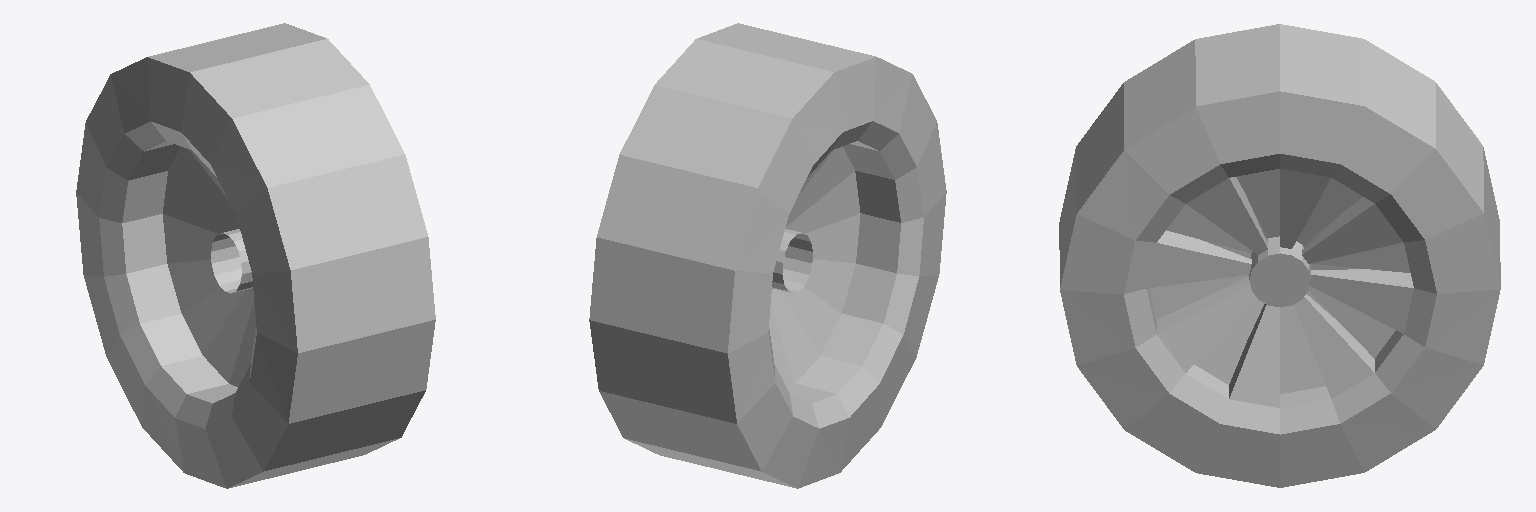
Rendered from ruotaPD.obj.
3 renders of one model, left to right at view 1: azimuth 30°, elevation 25°; view 2: azimuth 150°, elevation 25°; view 3: azimuth 270°, elevation 25°, orthographic.
Visible parts, largest first — view 1: Cube.002; view 2: Cube.002; view 3: Cube.002.
Boxes of the visible parts, x1,y1,x2,y2 form: Cube.002: [76, 23, 435, 488]; Cube.002: [589, 23, 946, 488]; Cube.002: [1059, 24, 1500, 487].
Size of the model in its own units: 0.2356 by 0.5537 by 0.5545.